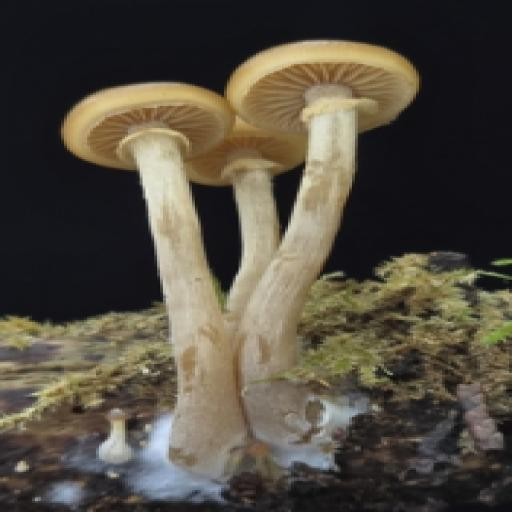mushroom: (54, 37, 467, 479)
